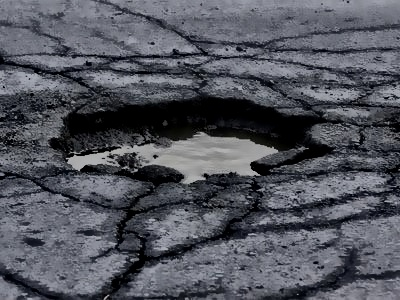pothole: (48, 89, 336, 190)
